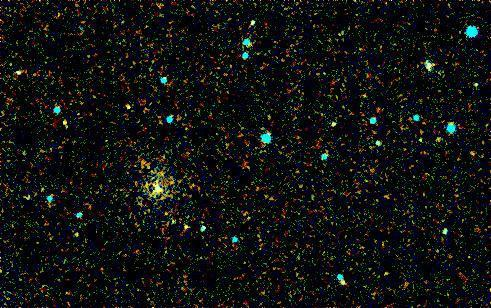star: (50, 107, 80, 137)
